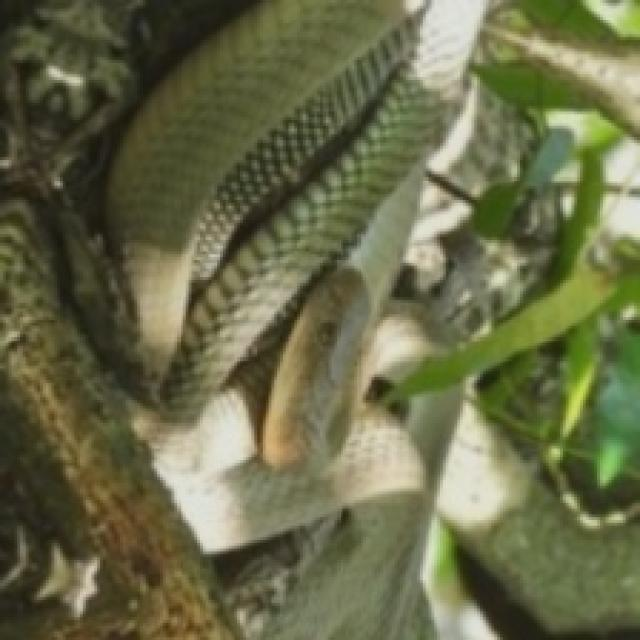king cobra: (109, 0, 488, 640)
